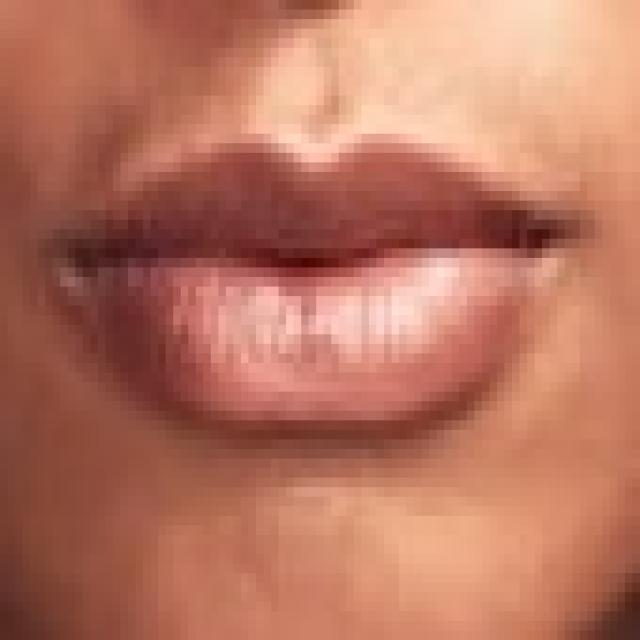closed-mouth: (38, 114, 588, 440)
